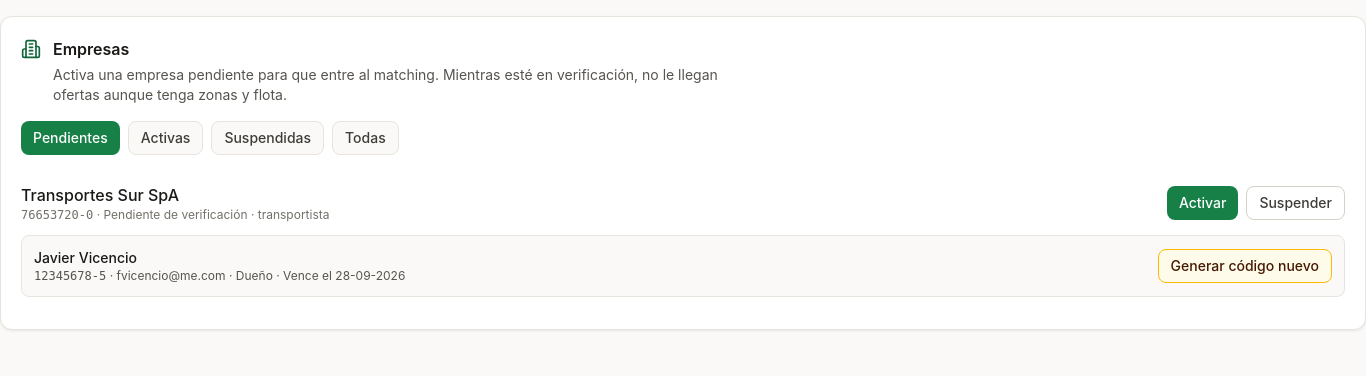
Test: ActivarEmpresa › traduce already_activated y membership_not_found
Click the button "Generar código nuevo" at (1245, 266), box [1158,249,1332,283]
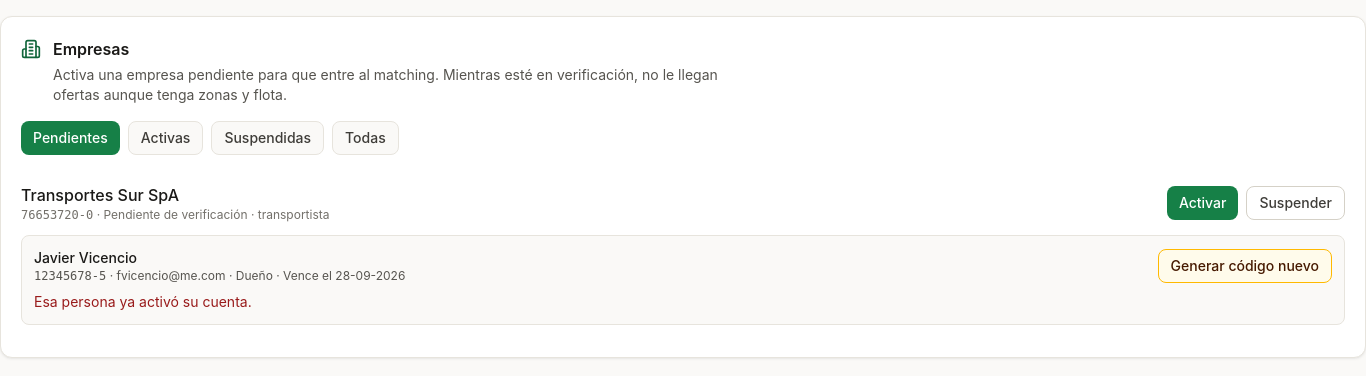
Expected: the text "Esa persona ya activó su cuenta." is shown, [34,293,252,310]
Click the button "Generar código nuevo" at (1245, 266), box [1158,249,1332,283]
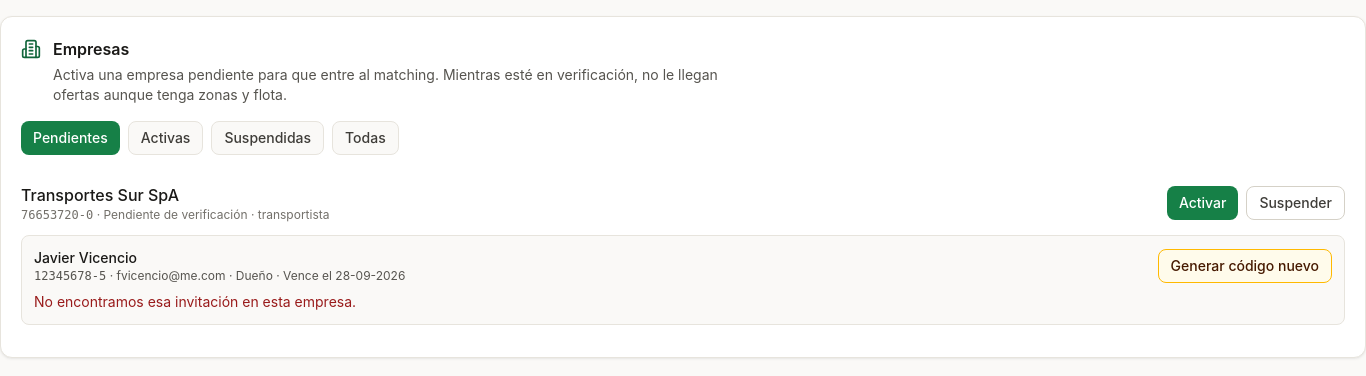
Expected: the text "No encontramos esa invitación en esta empresa." is shown, [34,293,356,310]
